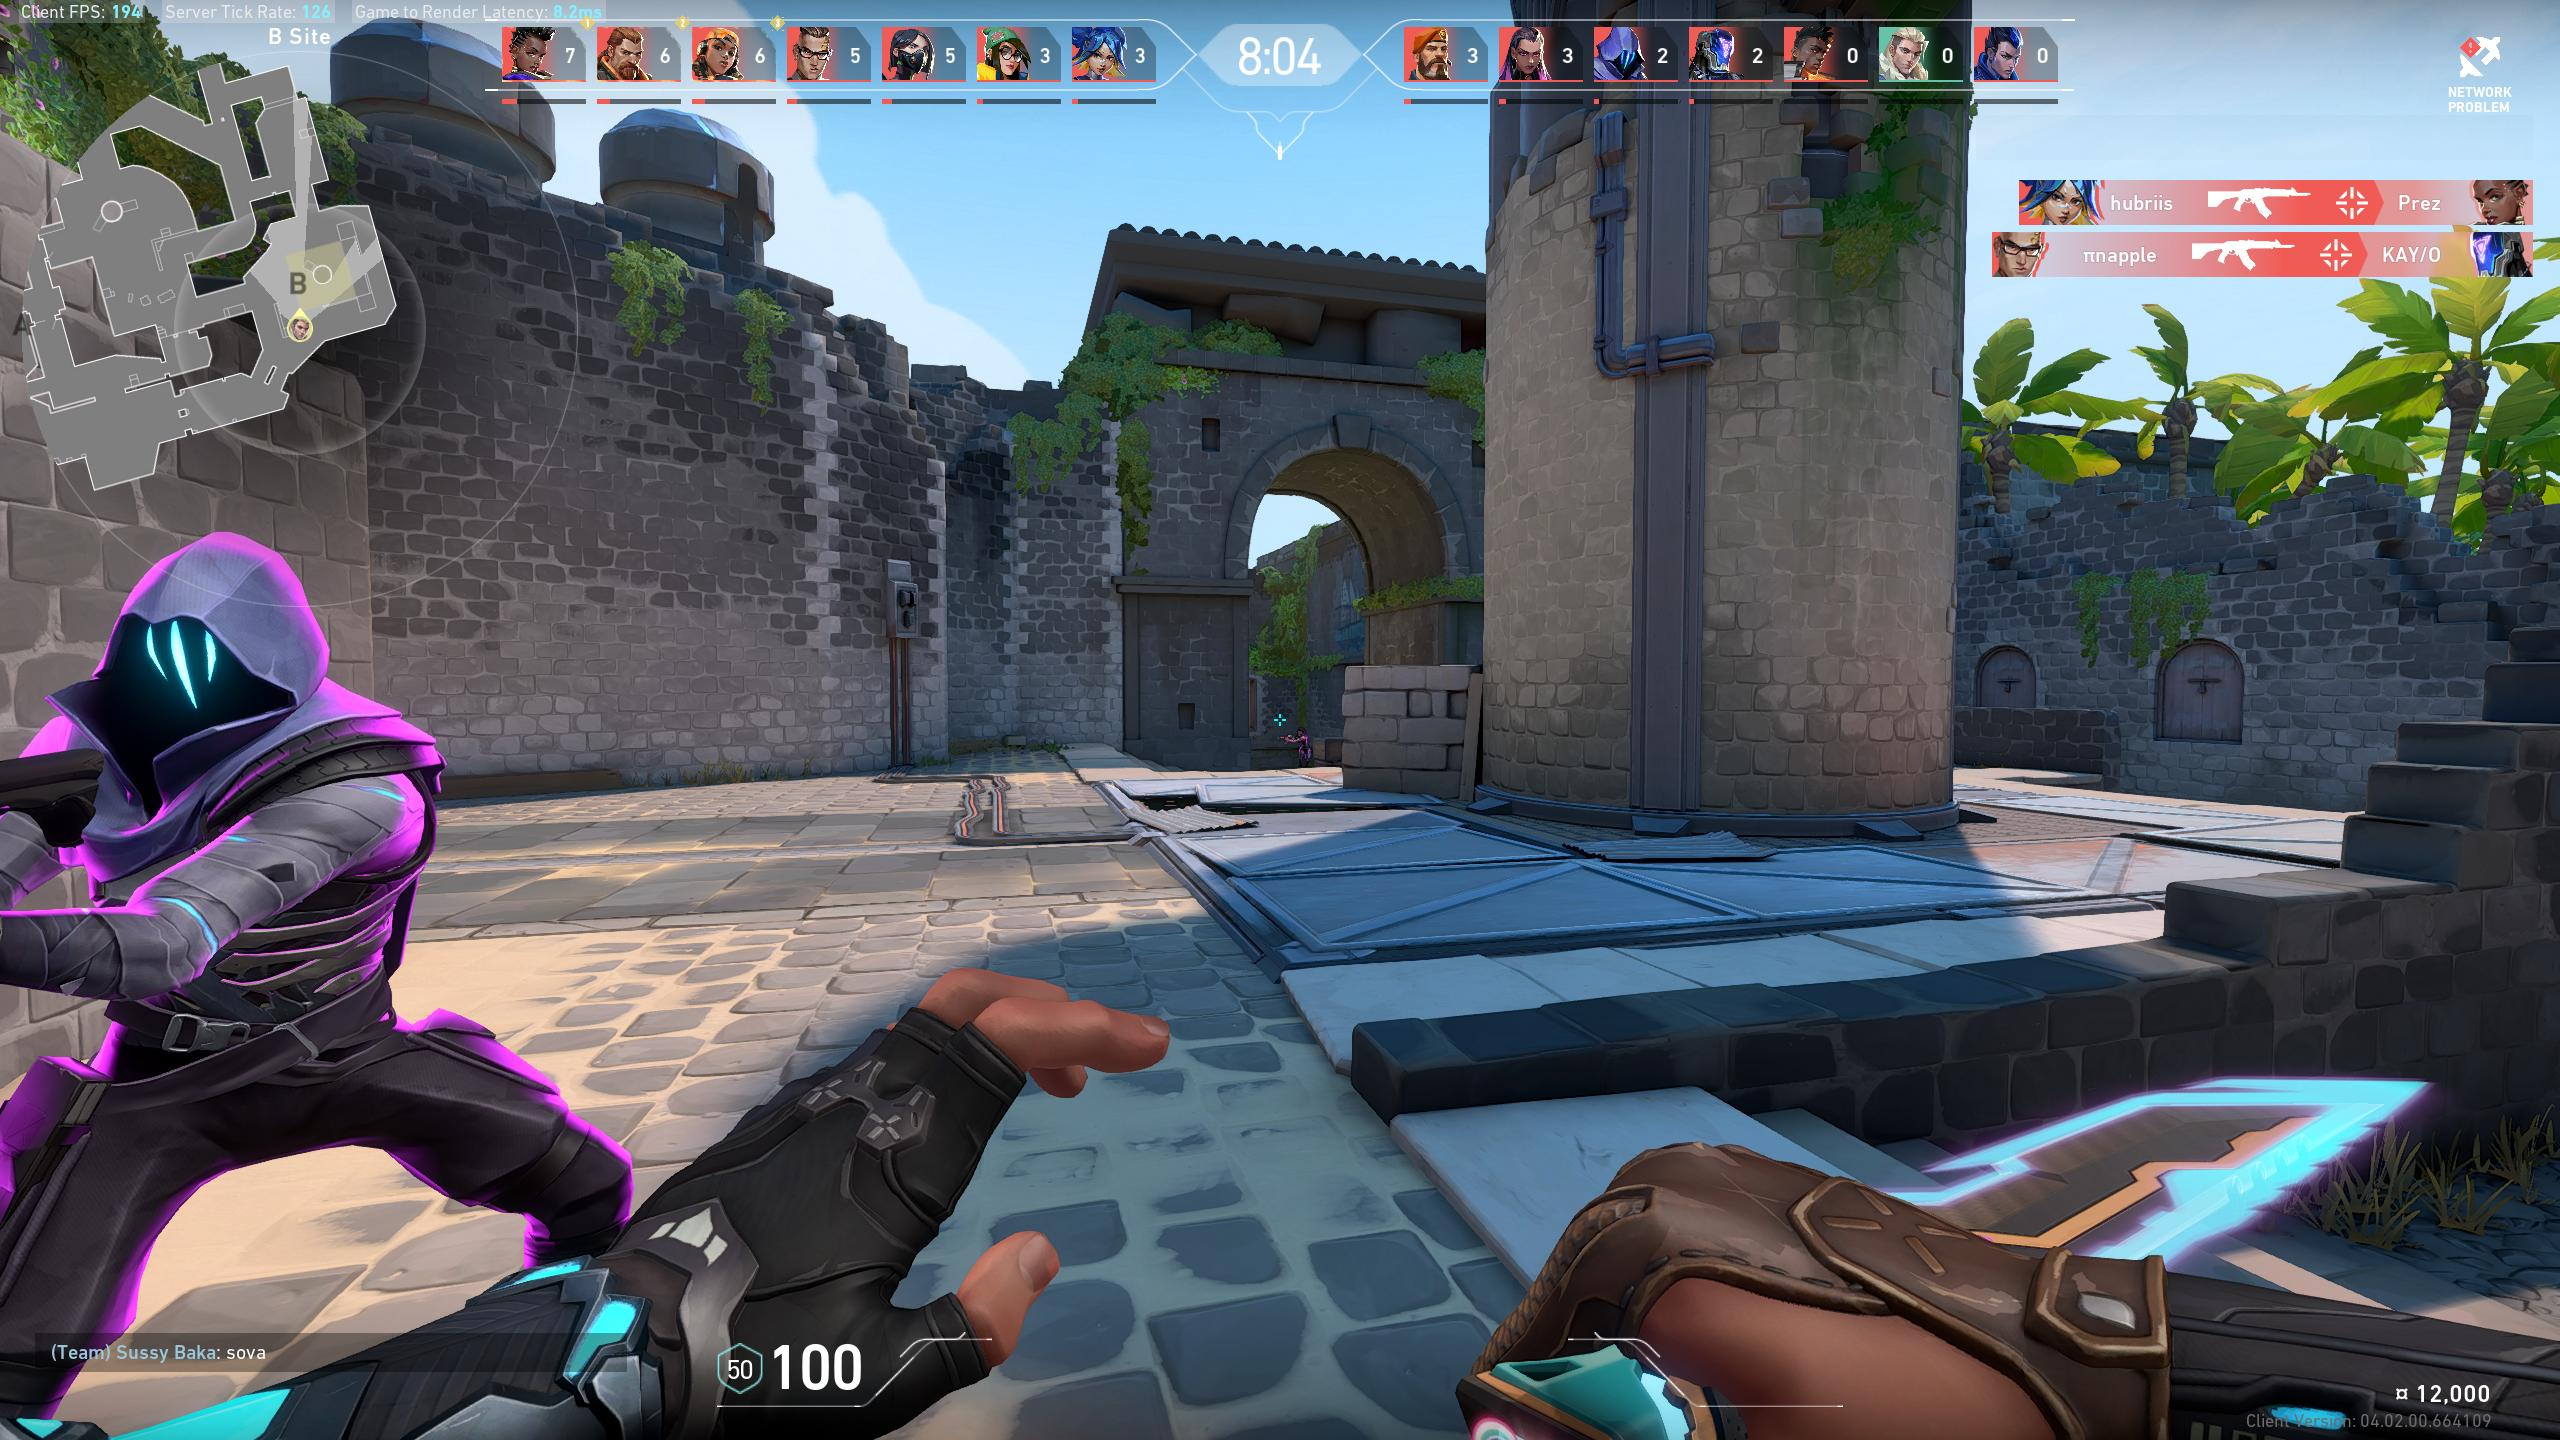enemyBody: (120, 761, 350, 1020), (1301, 737, 1306, 749)
enemyHead: (144, 594, 281, 744), (1298, 730, 1303, 737)
